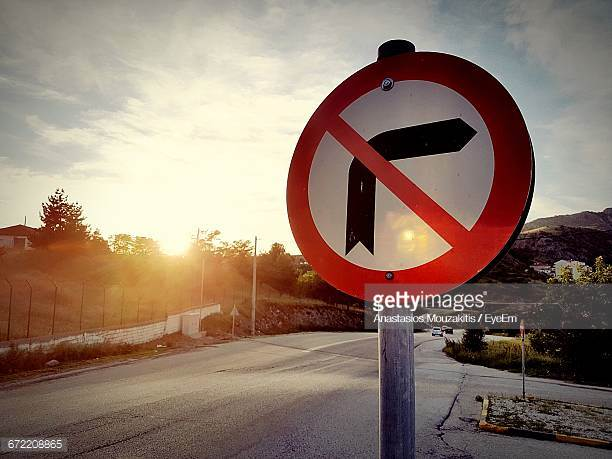No_right_turn: (287, 52, 536, 306)
